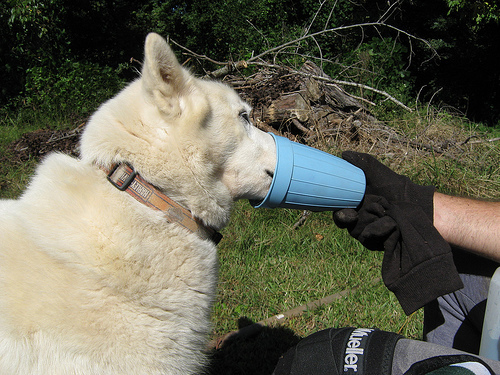dog: (0, 28, 278, 374)
